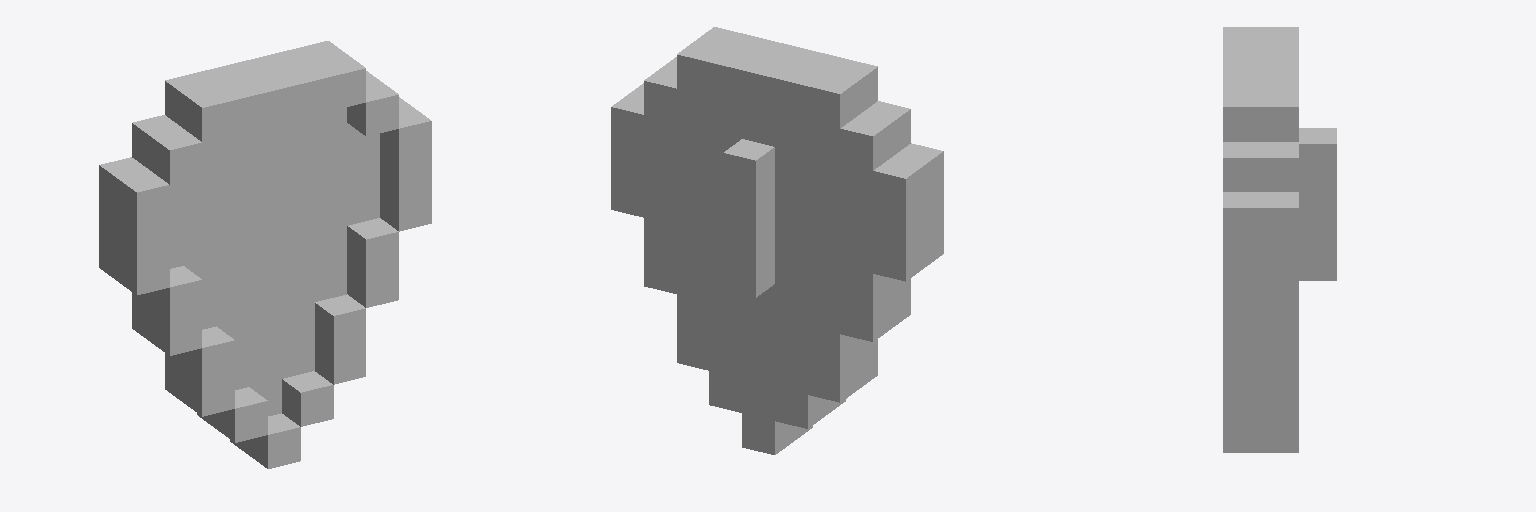
File: shield.obj
3 views of the same model, side by side, from view 1: azimuth 30°, elevation 25°; view 2: azimuth 150°, elevation 25°; view 3: azimuth 270°, elevation 25° (orthographic).
Visible parts, largest first — view 1: object 1; view 2: object 1; view 3: object 1.
Part boxes in pixels (left/top/right/bottom): object 1: left=99, top=41, right=431, bottom=468; object 1: left=611, top=27, right=943, bottom=454; object 1: left=1223, top=27, right=1336, bottom=452.
Bounding box in the file's own units: 0.9 × 1.1 × 0.3.